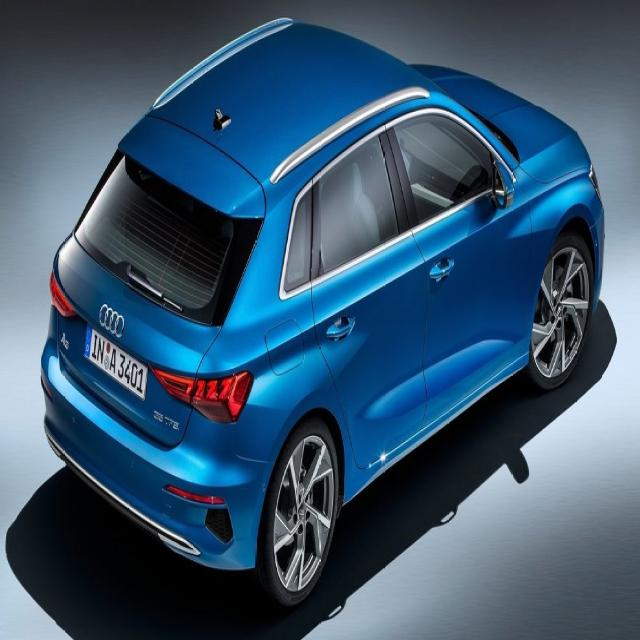yolov7-seg-car: (40, 16, 605, 607)
